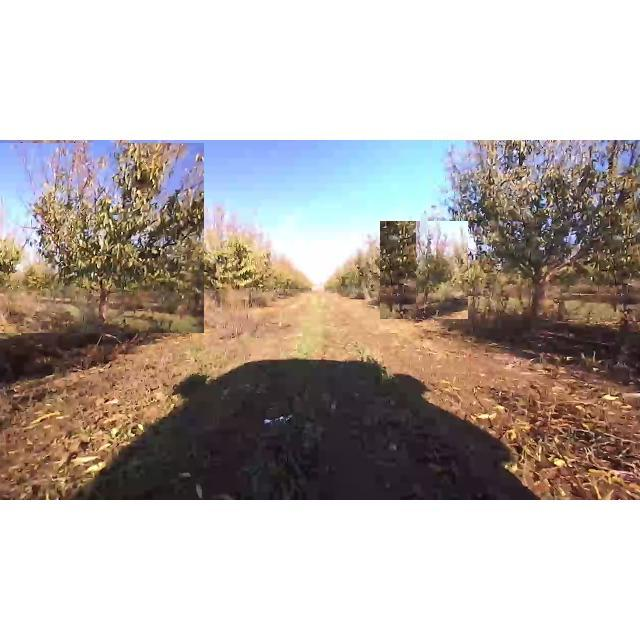direk: (0, 143, 204, 333), (432, 142, 640, 328), (171, 204, 271, 314), (380, 221, 468, 319)
